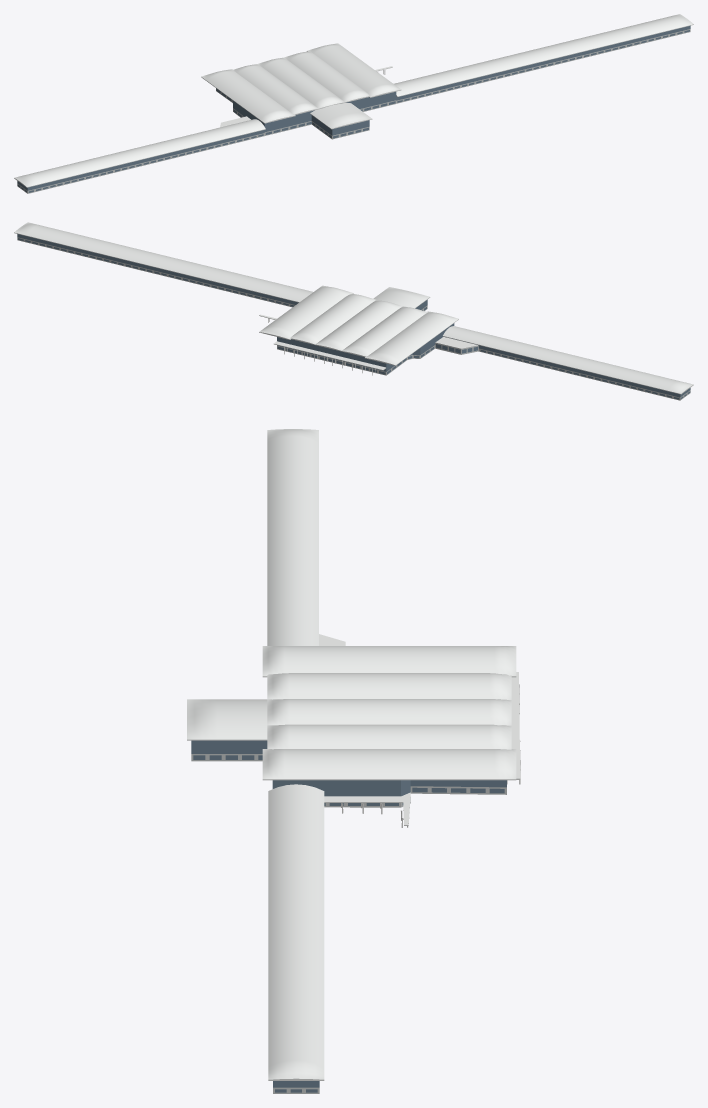
File: kl-klia2.glb
3 renders of one model, top to bottom at view 1: azimuth 30°, elevation 25°; view 2: azimuth 150°, elevation 25°; view 3: azimuth 270°, elevation 25°, orthographic. The views are drawn at different scales.
Visible parts, largest first — view 1: klia2 (main terminal, piers J and K/L); view 2: klia2 (main terminal, piers J and K/L); view 3: klia2 (main terminal, piers J and K/L).
Boxes of the visible parts, x1=… form: klia2 (main terminal, piers J and K/L): x1=14, y1=14, x2=693, y2=193; klia2 (main terminal, piers J and K/L): x1=14, y1=222, x2=693, y2=400; klia2 (main terminal, piers J and K/L): x1=187, y1=429, x2=520, y2=1093.
Size of the model in its own units: 1120 by 31.5 by 243.
